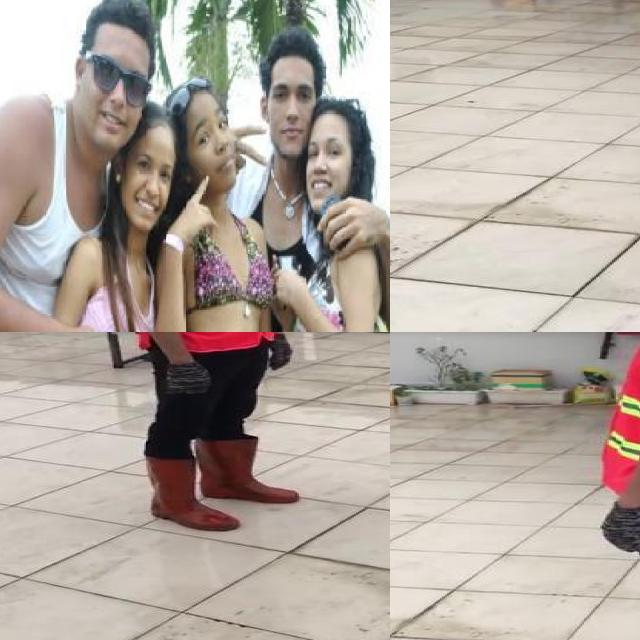boots: (132, 451, 242, 534), (196, 432, 302, 508)
face_nomask: (80, 53, 153, 138), (187, 109, 243, 185), (127, 152, 175, 218), (267, 78, 314, 144), (301, 135, 346, 200)
glasses: (80, 47, 156, 108)
hand_glove: (599, 501, 640, 555), (160, 363, 216, 397), (266, 332, 304, 372)
hand_noglove: (314, 188, 390, 256), (167, 173, 220, 244), (263, 262, 316, 313)
head_nohelmet: (79, 0, 161, 39), (162, 66, 225, 111), (262, 31, 326, 72), (126, 98, 178, 140), (309, 93, 367, 130)
person: (0, 0, 156, 332), (101, 332, 314, 533), (22, 99, 176, 332), (145, 67, 265, 332), (226, 37, 331, 332), (286, 87, 389, 332), (572, 332, 640, 640)
vest: (592, 332, 640, 502)
